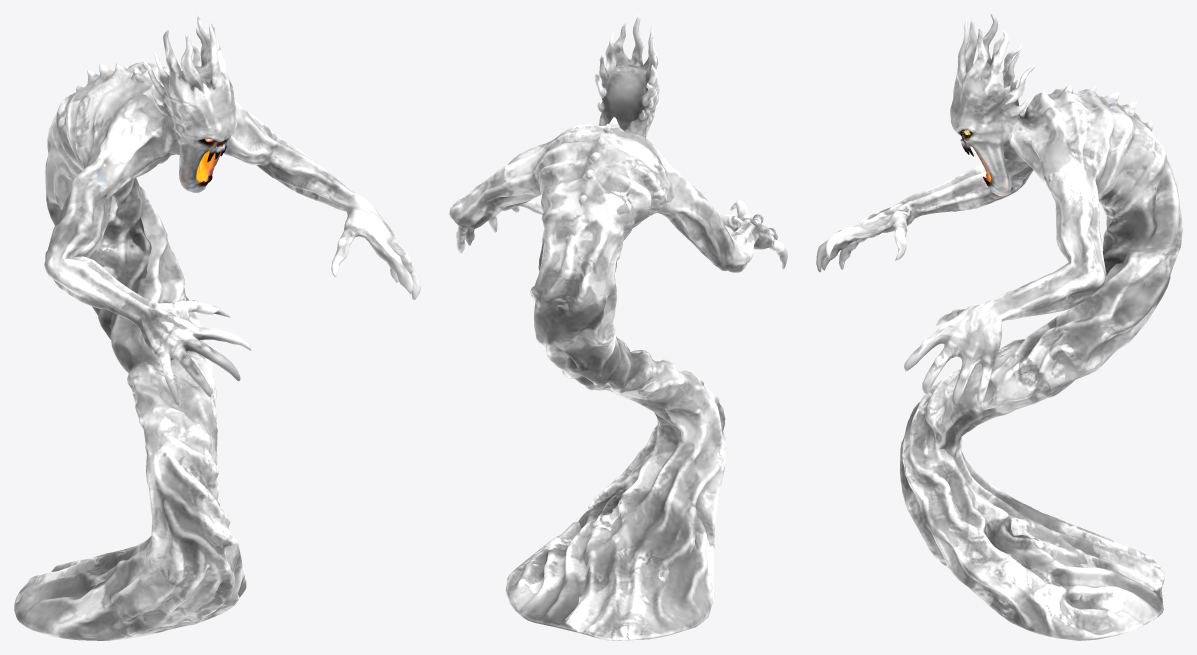
Rendered from MZ4250 - Ostinato.glb.
The picture shows the model from 3 angles, left to right: view 1: azimuth 30°, elevation 25°; view 2: azimuth 150°, elevation 25°; view 3: azimuth 270°, elevation 25°; orthographic projection. The views are drawn at different scales.
Parts seen in each view (by area): view 1: Ostinato.001; view 2: Ostinato.001; view 3: Ostinato.001.
Boxes of the visible parts, box(x1,y1,x2,y2) form: Ostinato.001: box(14, 14, 420, 640); Ostinato.001: box(449, 14, 787, 640); Ostinato.001: box(816, 14, 1182, 640).
Size of the model in its own units: 50.01 by 86.17 by 48.61.
Materials: 1 (1 with a texture image).
